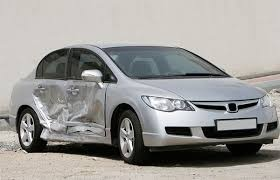Dent: (28, 81, 111, 143)
